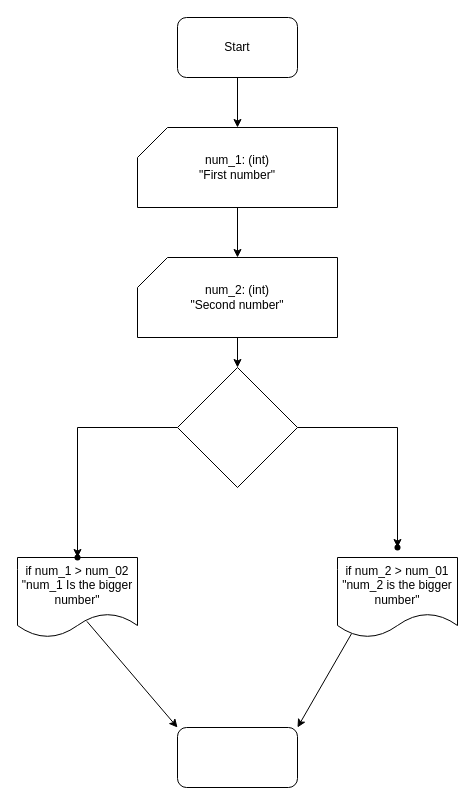
Image size: 475x805. Some labels were removed from this diagram. The shapes that lost their labels are listed below. From the top down, each one's box as (x1, y1, x2, y2) in pixels, then its label:
(176, 366, 298, 488): "What number is bigger? num_1 or num_2?"
(176, 726, 298, 788): End
